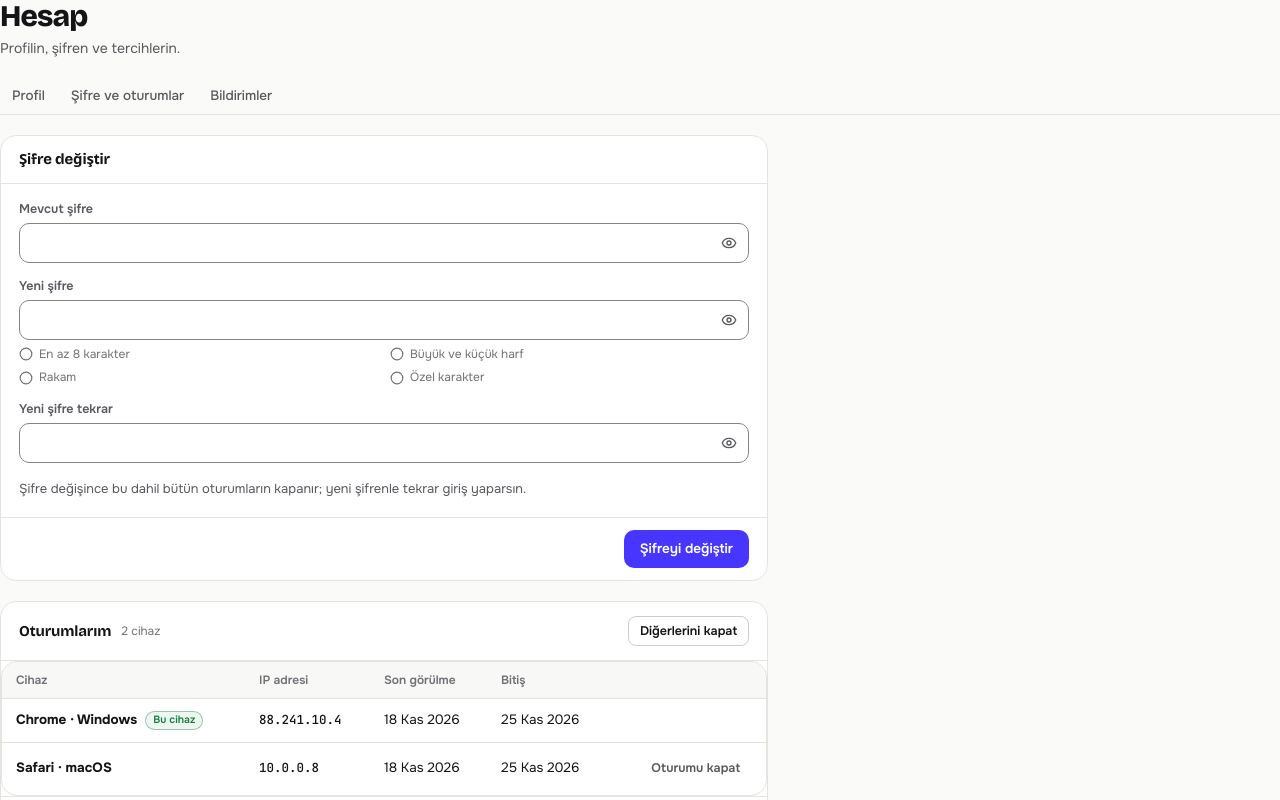
Test case: account sessions and linked accounts › lists the devices and signs one out after the confirmation
The image size is (1280, 800).
Check: the text "Chrome · Windows" is shown, box [16,710,137,731]
Check: the text "Bu cihaz" is shown, box [145,711,203,730]
Click the button with aria-label "Safari · macOS oturumunu kapat": (696, 769) [639,754,752,784]
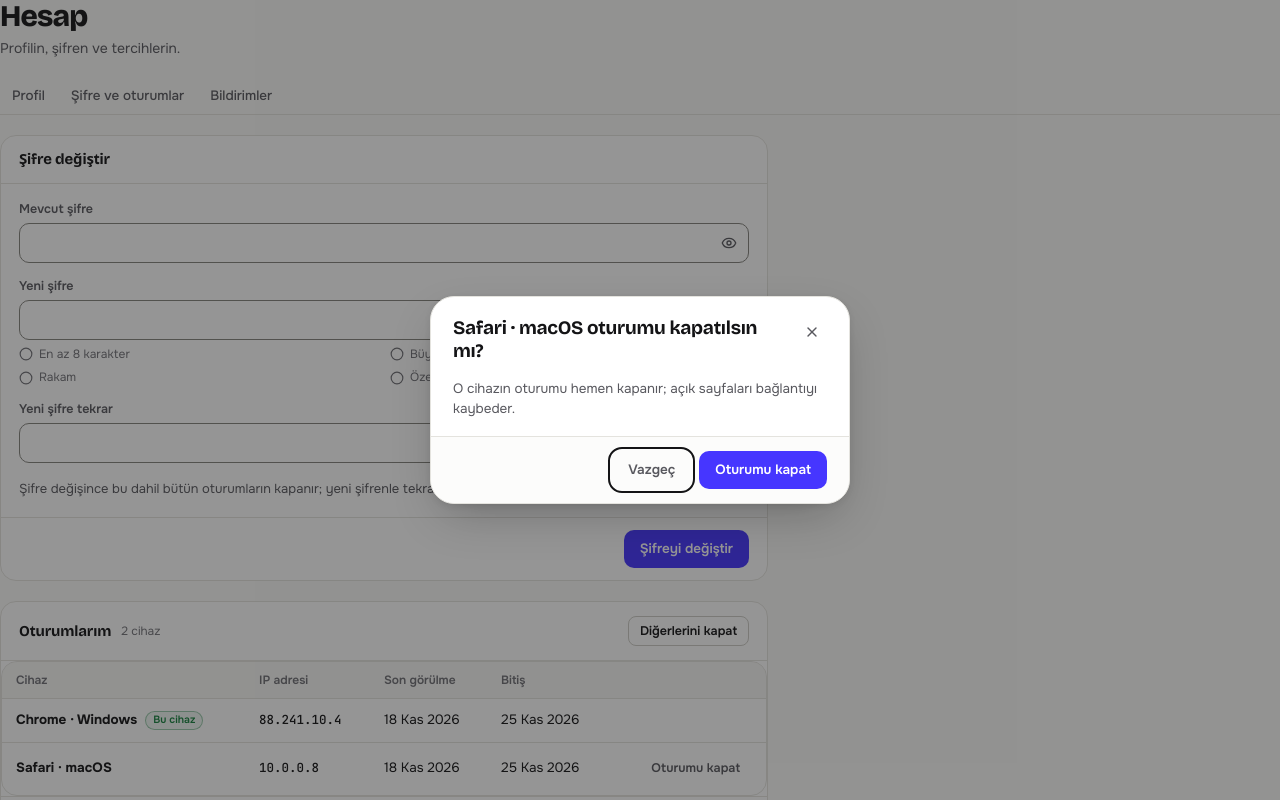
Click the button "Oturumu kapat": (763, 470) [699,450,827,488]
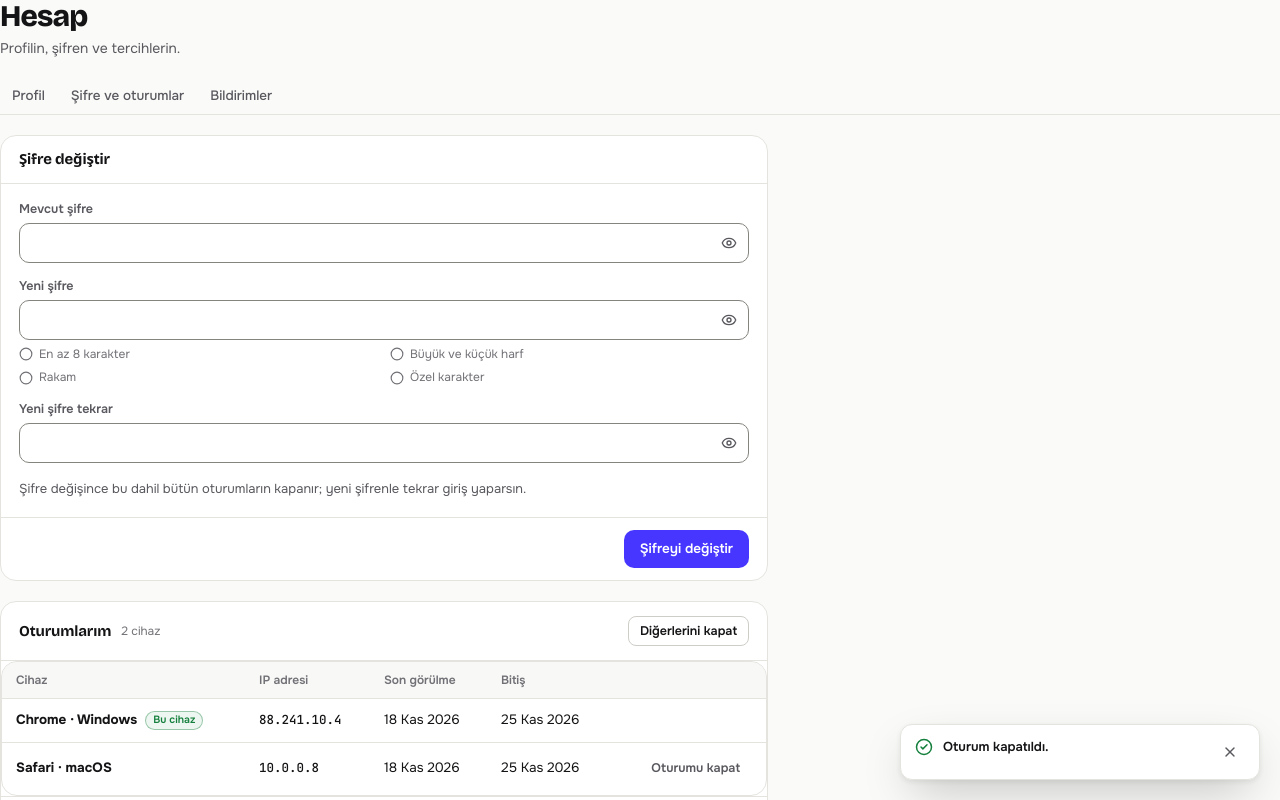
Check: the text "Oturum kapatıldı." is shown, box [943,738,1048,755]
